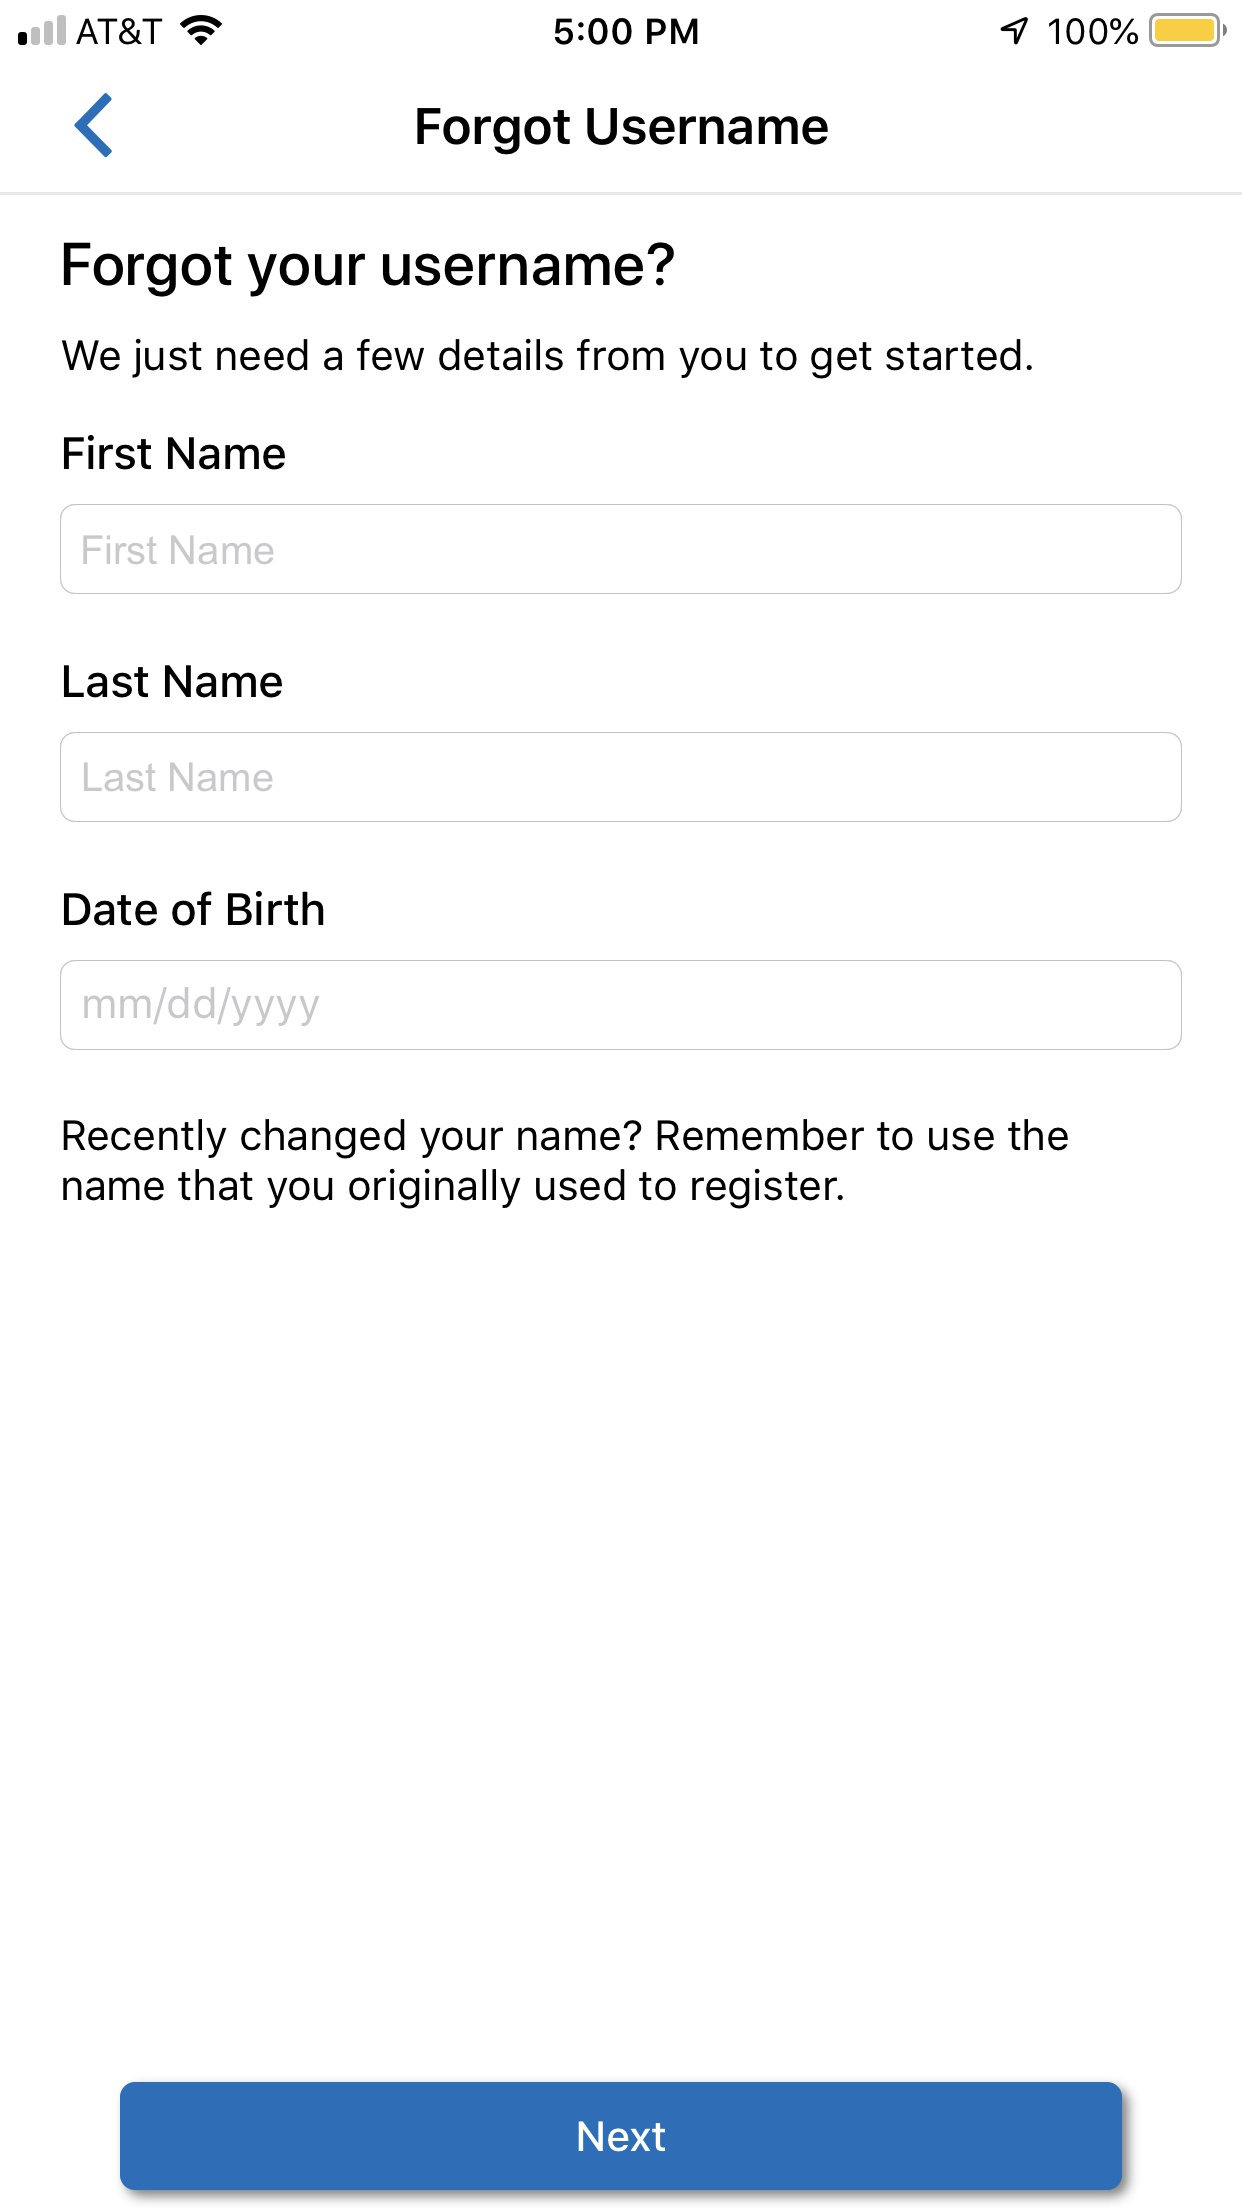EditText: (61, 960, 1184, 1051), (61, 732, 1181, 823), (61, 503, 1181, 594)
Icon: (74, 93, 114, 159)
Text: (64, 1119, 1069, 1210), (62, 340, 1033, 381), (64, 243, 675, 299), (417, 108, 830, 156), (85, 987, 320, 1027), (65, 892, 325, 927), (64, 435, 287, 472), (64, 666, 284, 699), (83, 535, 274, 566), (85, 763, 274, 793)
TextButton: (120, 2082, 1124, 2191)
UpperTaskBar: (2, 2, 1242, 49)
